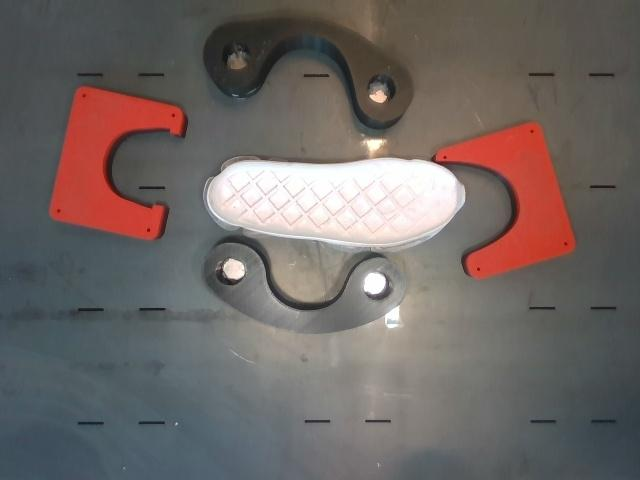shoes: (208, 159, 464, 244)
